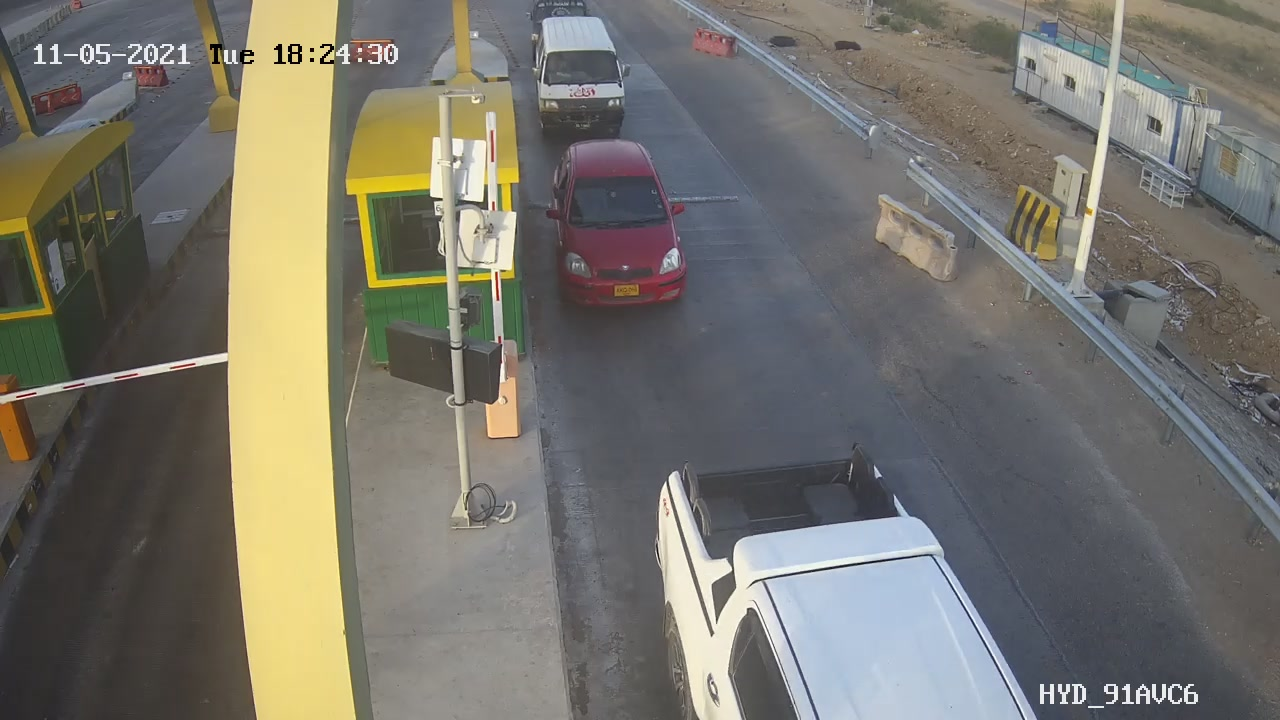F1: (538, 138, 700, 319)
